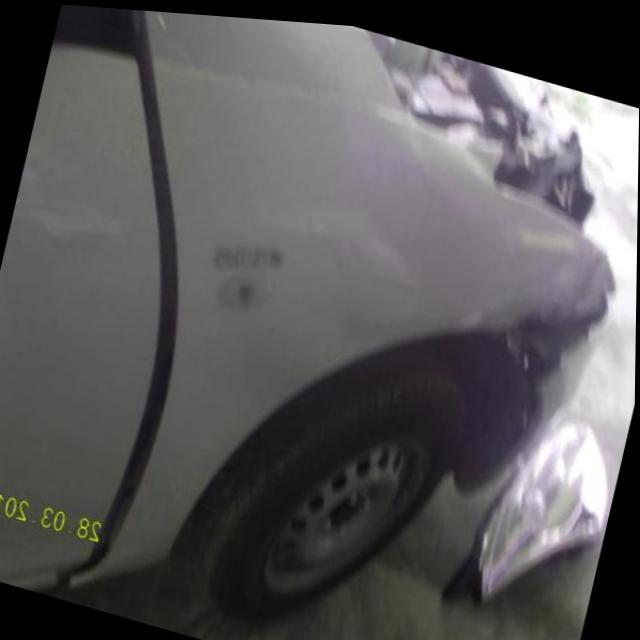Car-Damage: (1, 37, 244, 613)
